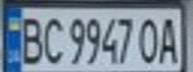4: (100, 13, 121, 64)
7: (115, 13, 139, 64)
9: (63, 12, 87, 65), (81, 14, 103, 65)
A: (157, 12, 181, 65)
B: (15, 12, 45, 65)
C: (39, 12, 66, 65)
O: (136, 13, 163, 64)
